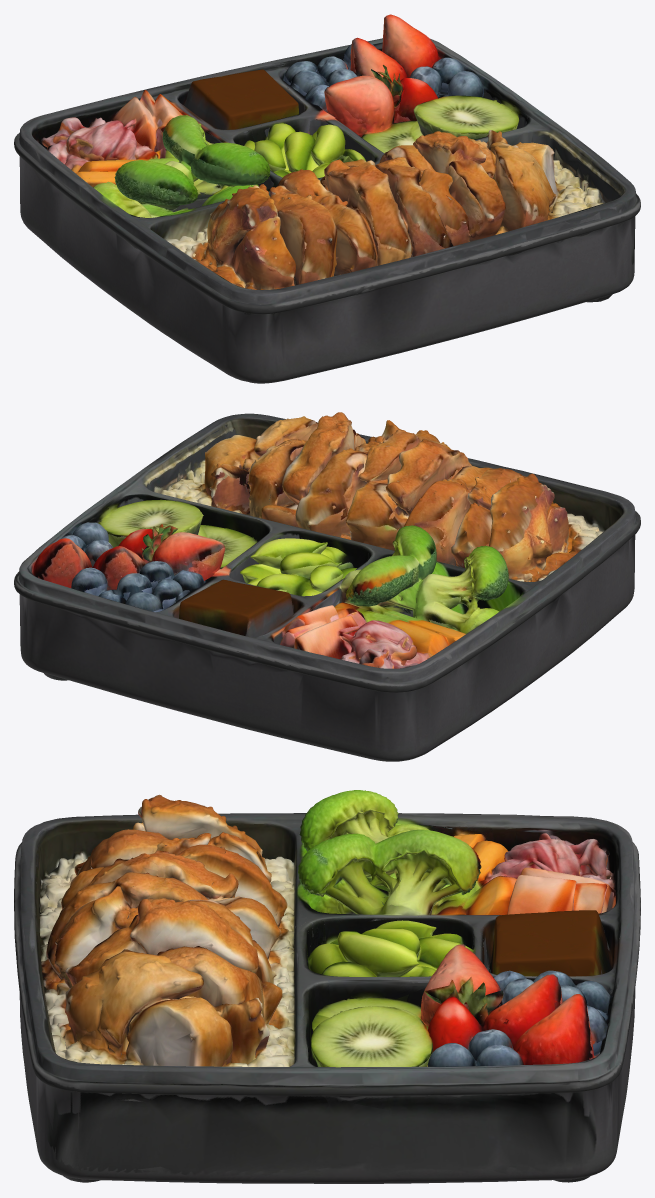
File: Miso-Soup.glb
3 renders of one model, top to bottom at view 1: azimuth 30°, elevation 25°; view 2: azimuth 150°, elevation 25°; view 3: azimuth 270°, elevation 25°, orthographic. The views are drawn at different scales.
Parts seen in each view (by area): view 1: tripo_part_19, tripo_part_11, tripo_part_10, tripo_part_30, tripo_part_24, tripo_part_23, tripo_part_13, tripo_part_31, tripo_part_26, tripo_part_21, tripo_part_2, tripo_part_20 (+10 smaller); view 2: tripo_part_19, tripo_part_11, tripo_part_10, tripo_part_30, tripo_part_24, tripo_part_23, tripo_part_20, tripo_part_31, tripo_part_21, tripo_part_26, tripo_part_14, tripo_part_13 (+11 smaller); view 3: tripo_part_19, tripo_part_11, tripo_part_23, tripo_part_30, tripo_part_14, tripo_part_21, tripo_part_24, tripo_part_31, tripo_part_10, tripo_part_13, tripo_part_26, tripo_part_20 (+18 smaller).
Boxes of the visible parts, bbox=[...] form: tripo_part_19: bbox=[14, 38, 640, 383]; tripo_part_11: bbox=[320, 131, 556, 257]; tripo_part_10: bbox=[180, 184, 334, 289]; tripo_part_30: bbox=[41, 90, 182, 178]; tripo_part_24: bbox=[244, 80, 366, 178]; tripo_part_23: bbox=[86, 115, 282, 206]; tripo_part_13: bbox=[289, 159, 410, 265]; tripo_part_31: bbox=[183, 69, 298, 129]; tripo_part_26: bbox=[320, 65, 438, 136]; tripo_part_21: bbox=[361, 95, 519, 153]; tripo_part_2: bbox=[277, 207, 376, 284]; tripo_part_20: bbox=[101, 160, 198, 217]; tripo_part_19: bbox=[14, 413, 640, 761]; tripo_part_11: bbox=[239, 412, 439, 550]; tripo_part_10: bbox=[451, 468, 579, 581]; tripo_part_30: bbox=[279, 602, 461, 668]; tripo_part_24: bbox=[172, 538, 366, 605]; tripo_part_23: bbox=[336, 525, 465, 635]; tripo_part_20: bbox=[415, 545, 508, 633]; tripo_part_31: bbox=[179, 579, 293, 637]; tripo_part_21: bbox=[100, 499, 257, 569]; tripo_part_26: bbox=[118, 524, 225, 592]; tripo_part_14: bbox=[201, 435, 256, 512]; tripo_part_13: bbox=[340, 438, 479, 544]; tripo_part_19: bbox=[14, 813, 640, 1183]; tripo_part_11: bbox=[44, 853, 288, 1056]; tripo_part_23: bbox=[298, 829, 481, 919]; tripo_part_30: bbox=[440, 833, 617, 914]; tripo_part_14: bbox=[127, 997, 283, 1066]; tripo_part_21: bbox=[311, 996, 432, 1067]; tripo_part_24: bbox=[307, 920, 580, 983]; tripo_part_31: bbox=[489, 910, 612, 976]; tripo_part_10: bbox=[73, 794, 271, 882]; tripo_part_13: bbox=[46, 843, 294, 985]; tripo_part_26: bbox=[420, 944, 509, 1066]; tripo_part_20: bbox=[299, 790, 425, 891].
Bounding box in the file's own units: 0.2938 × 0.1071 × 0.2938.
37 materials, 37 textured.
